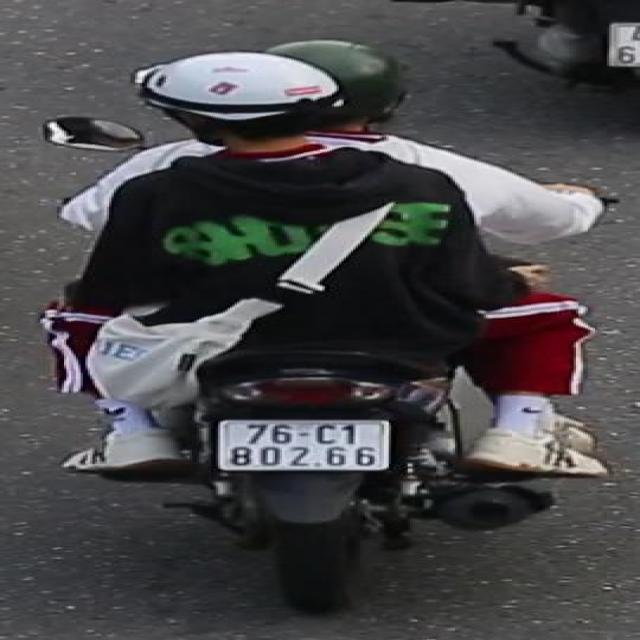LP: (210, 413, 397, 475)
helmet: (123, 46, 351, 162), (272, 38, 414, 102)
